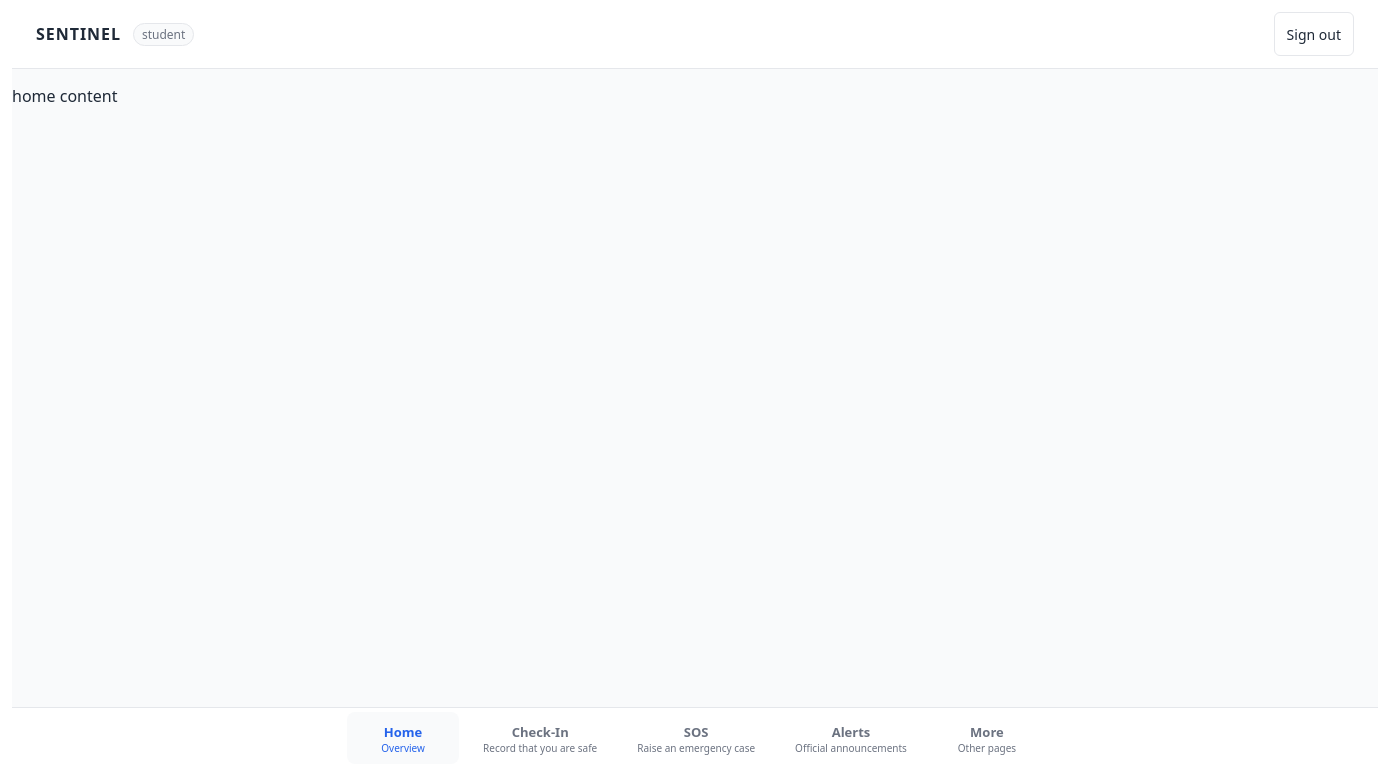
Test: AppShell › closes the More menu again
This screenshot has width=1378, height=768.
Click the button "More Other pages": x=987, y=738 931,712 -> 1043,764
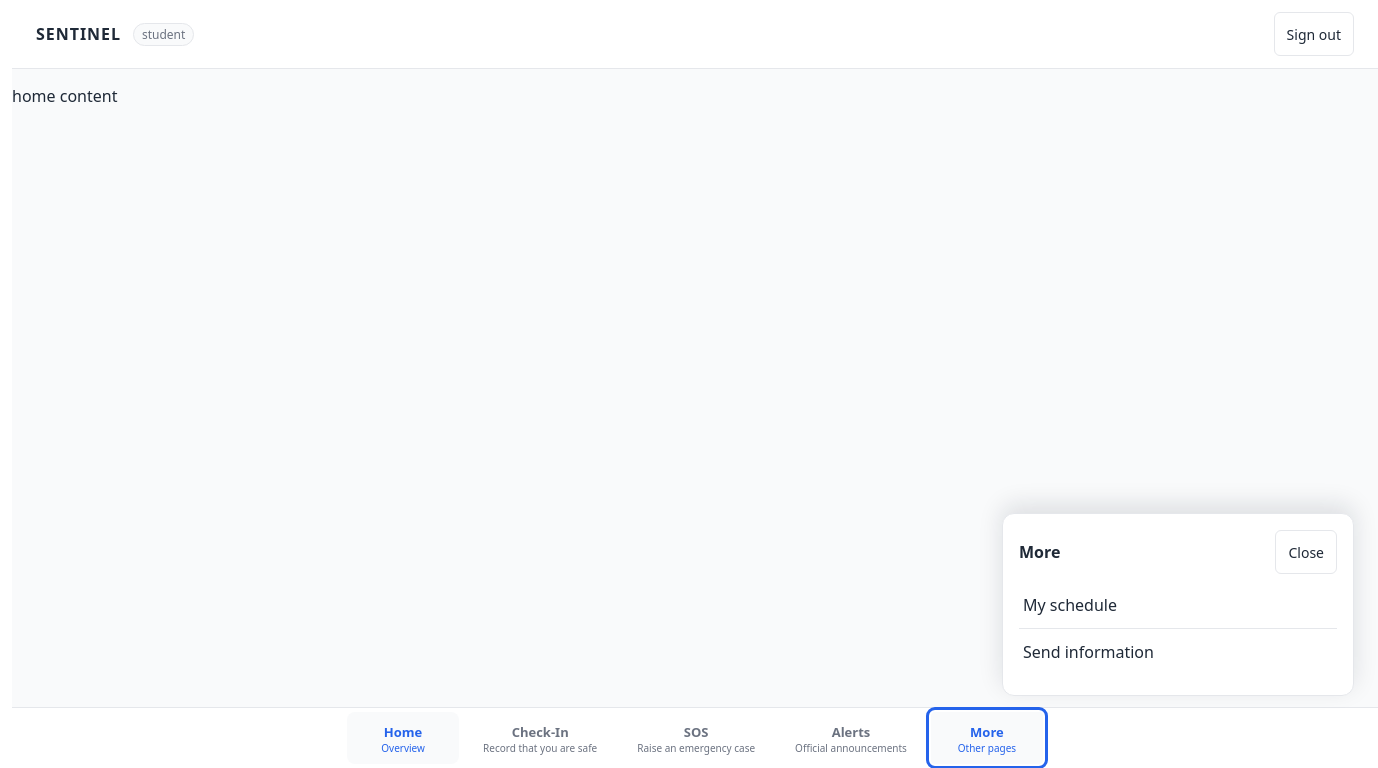
Check: the link "My schedule" is shown, box 1023,594 -> 1117,616
Click the button "Close": x=1306, y=552 1276,530 -> 1337,574
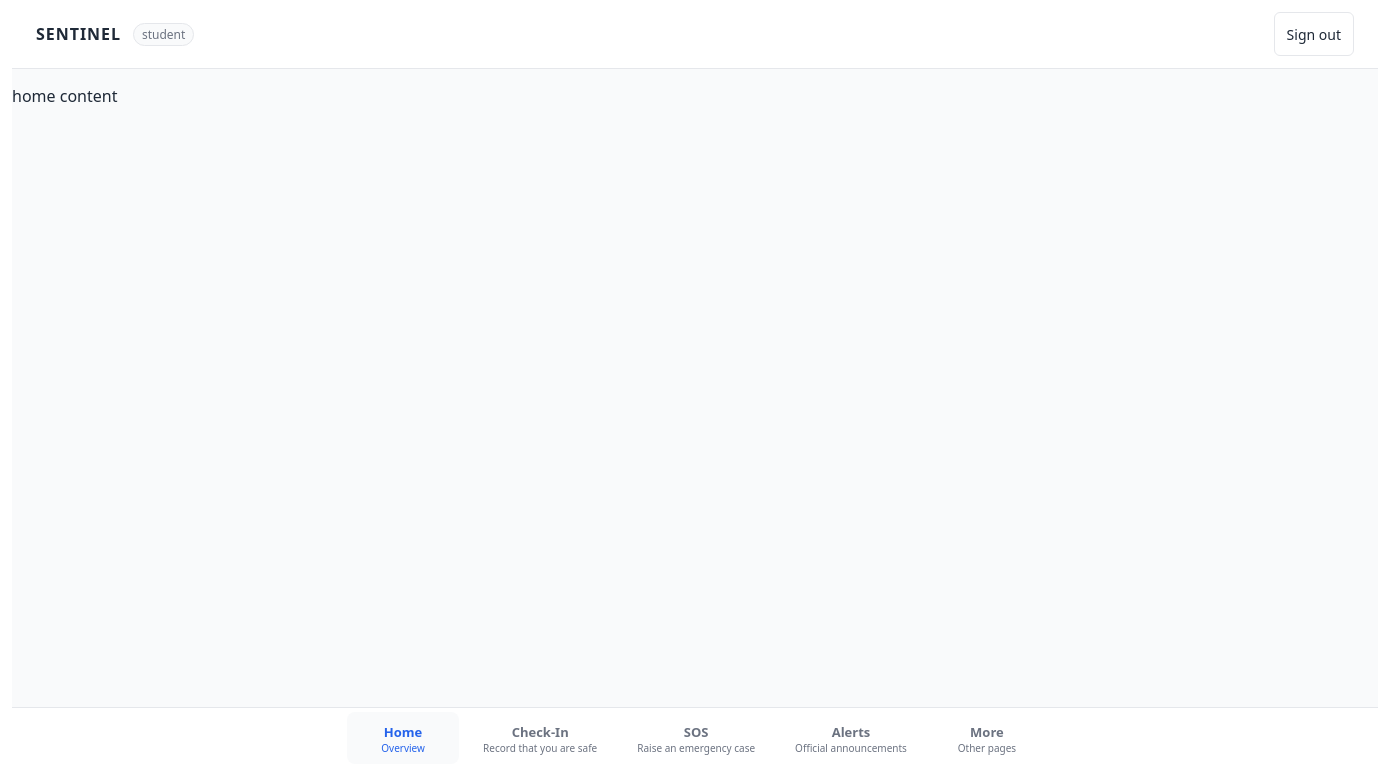
Check: the link "My schedule" is gone
